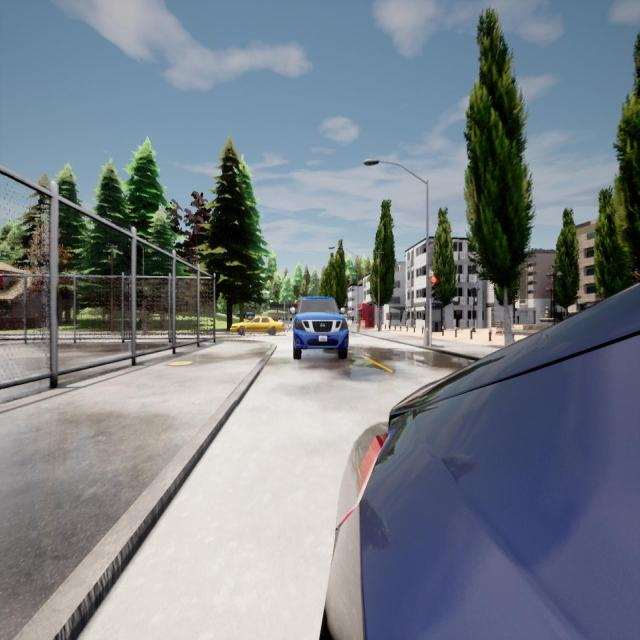Vehicle: (324, 290, 640, 640), (293, 296, 348, 356), (230, 315, 286, 335)
traffic_light: (431, 276, 436, 297)
